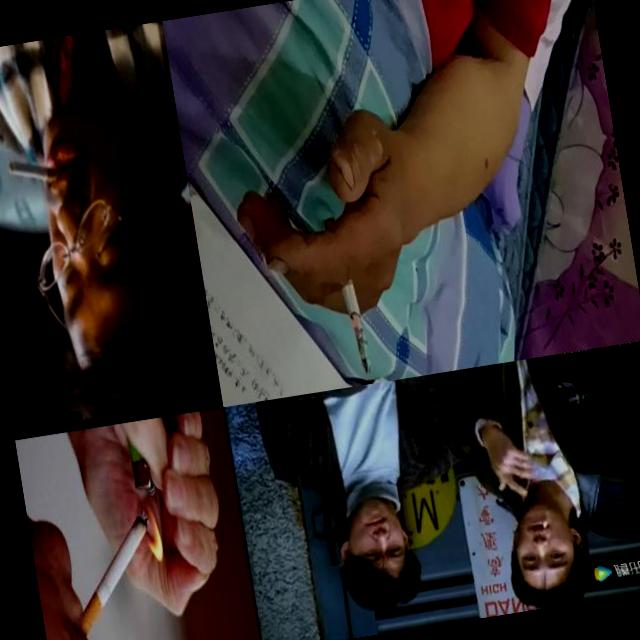smoke: (47, 413, 236, 638), (322, 212, 374, 378), (3, 147, 71, 194), (536, 518, 554, 536)
